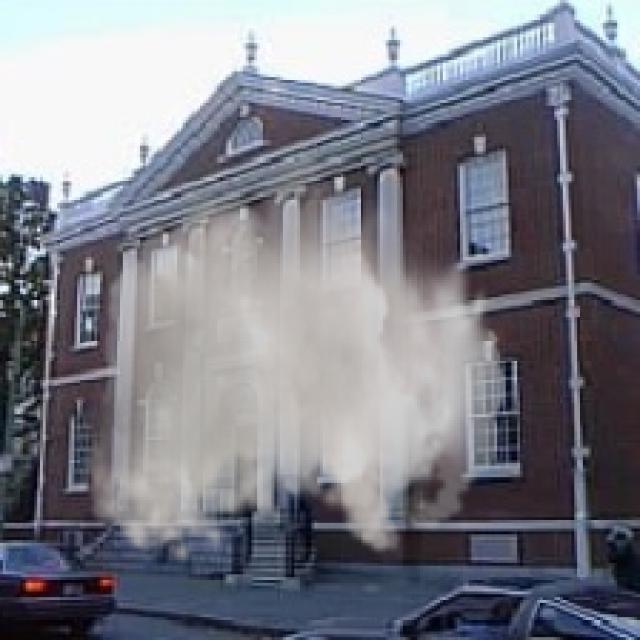smoke: (86, 143, 506, 568)
